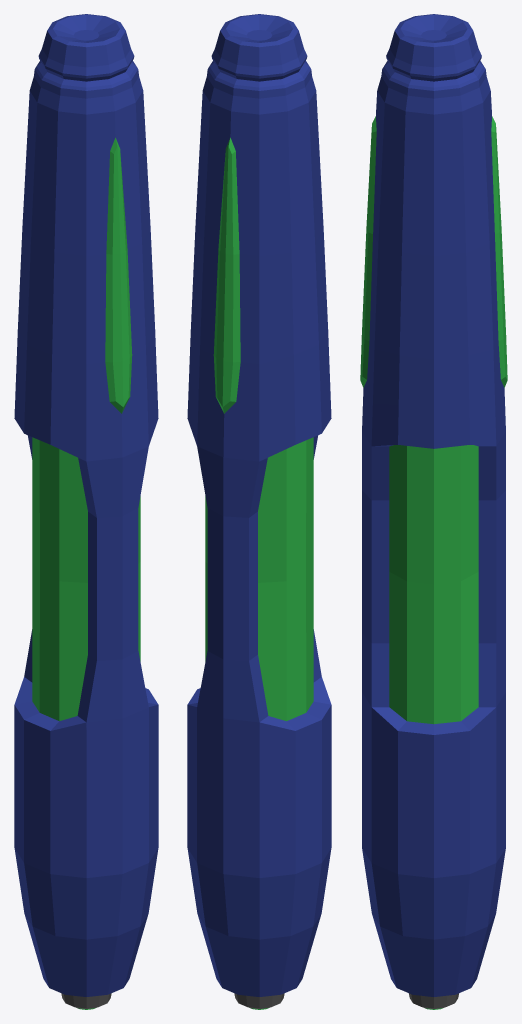
The model's file is One Time injector.fbx.
3 views of the same model, side by side, from view 1: azimuth 30°, elevation 25°; view 2: azimuth 150°, elevation 25°; view 3: azimuth 270°, elevation 25° (orthographic).
Visible parts, largest first — view 1: Injector 1; view 2: Injector 1; view 3: Injector 1.
Part boxes in pixels (x1=…): Injector 1: x1=14, y1=14, x2=158, y2=1009; Injector 1: x1=187, y1=14, x2=331, y2=1009; Injector 1: x1=360, y1=14, x2=507, y2=1009.
Size of the model in its own units: 4.07 by 30.51 by 4.17.
